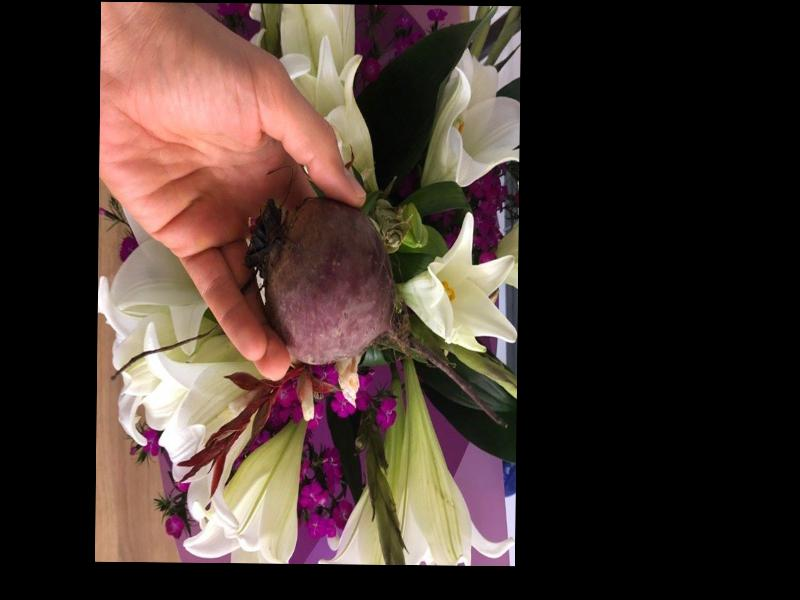Beet: (245, 197, 508, 429)
